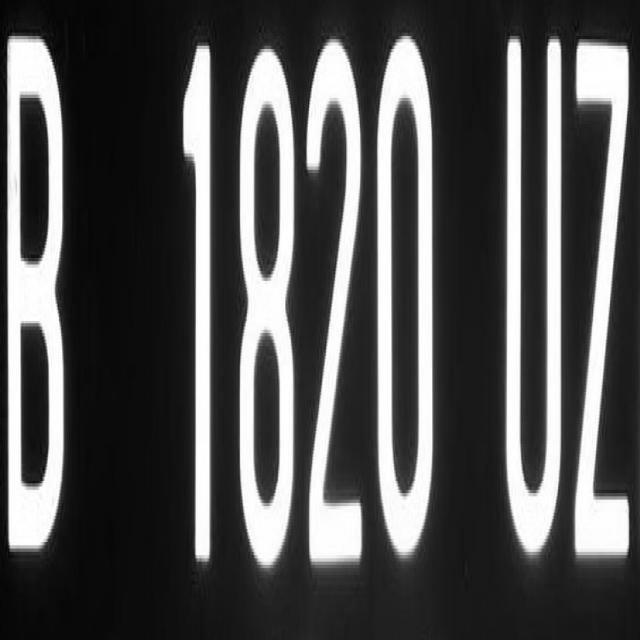0: (373, 36, 447, 550)
1: (164, 43, 228, 563)
2: (301, 34, 358, 556)
8: (235, 46, 302, 564)
B: (0, 26, 80, 555)
U: (488, 23, 570, 565)
Z: (570, 36, 640, 564)
